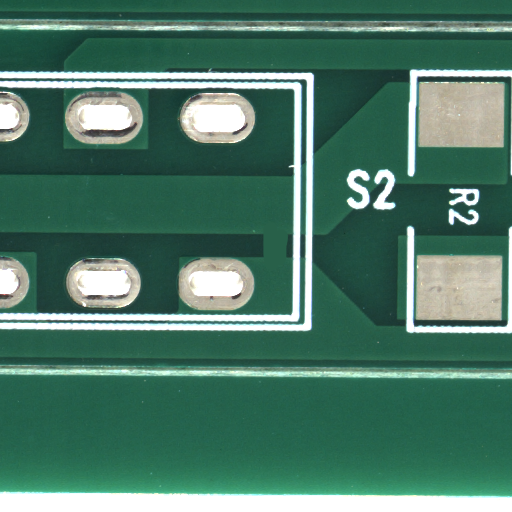Short: (272, 245, 312, 293)
